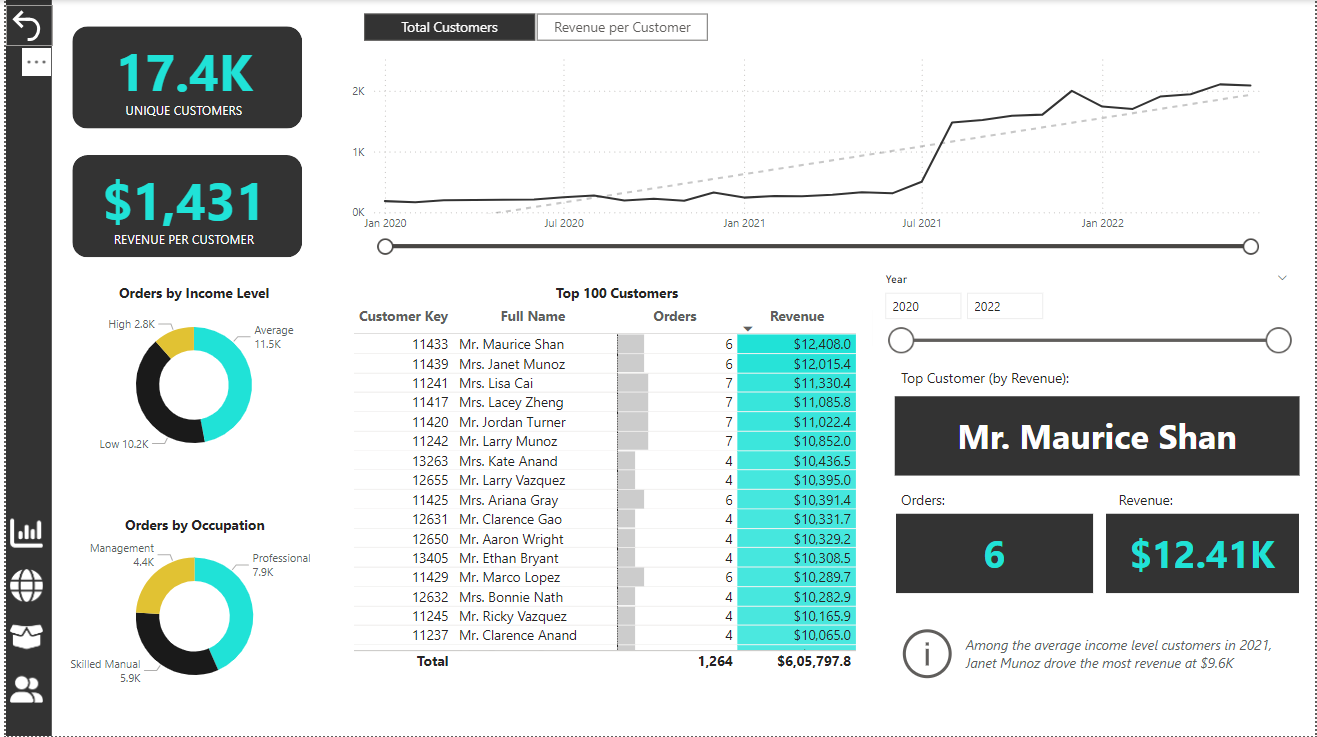

The dashboard page shown, as its layout file describes it:
{"tool":"powerbi","page":{"name":"Customer Detail","canvas":[1280,720],"ordinal":3},"visuals":[{"type":"shape","box":[0,0,45,720.2],"z":0},{"type":"shape","box":[65.3,25.7,225,100.3],"z":1000},{"type":"actionButton","box":[0.2,500.9,45.2,40.4],"z":2000,"group":"g1"},{"type":"shape","box":[64.8,151.6,225,100.3],"z":2000},{"type":"card","fields":{"Values":["Measure Table.Total Customers"]},"box":[45.2,0,258,151.6],"z":3000},{"type":"actionButton","box":[0.2,551.9,45.2,40.4],"z":4000,"group":"g1"},{"type":"card","fields":{"Values":["Measure Table.Average Revenue per Customer"]},"box":[45.2,126,258,151.6],"z":4000},{"type":"lineChart","fields":{"Y":["Measure Table.Total Customers"],"Category":["Calendar Lookup.Date Hierarchy.Start of Year","Calendar Lookup.Date Hierarchy.Start of Month","Calendar Lookup.Date Hierarchy.Start of Week","Calendar Lookup.Date Hierarchy.Date"]},"box":[333.8,45.2,909.8,206.7],"z":5000},{"type":"actionButton","box":[0.2,602.8,45.2,40.4],"z":5000,"group":"g1"},{"type":"actionButton","box":[0.2,653.8,45.2,40.4],"z":6000,"group":"g1"},{"type":"donutChart","title":"Orders by Income Level","fields":{"Category":["Customer Lookup.Income Level"],"Y":["Measure Table.Total Orders"]},"box":[64.8,277.6,238.5,181],"z":6000},{"type":"donutChart","title":"Orders by Occupation","fields":{"Y":["Measure Table.Total Orders"],"Category":["Customer Lookup.Occupation"]},"box":[57.5,503.8,254.3,181],"z":7000},{"type":"tableEx","title":"Top 100 Customers","fields":{"Values":["Customer Lookup.CustomerKey","Customer Lookup.Full Name","Measure Table.Total Orders","Measure Table.Total Revenue"]},"box":[333.8,277.5,527.5,382.5],"z":8000},{"type":"card","fields":{"Values":["Customer Lookup.Full Name (Customer Detail)"]},"box":[869.5,387.5,396.2,77.5],"z":9000},{"type":"card","fields":{"Values":["Measure Table.Total Orders (Customer Detail)"]},"box":[870.2,502.2,192.5,77.5],"z":10000},{"type":"card","fields":{"Values":["Measure Table.Total Revenue (Customer Detail)"]},"box":[1076.5,502.2,188.8,77.5],"z":11000},{"type":"textbox","box":[870.2,356,192.5,27.5],"z":12000},{"type":"textbox","box":[870.2,474.7,178.8,27.5],"z":13000},{"type":"textbox","box":[1084,474.7,175,27.5],"z":14000},{"type":"slicer","fields":{"Values":["Calendar Lookup.Year"]},"box":[847.5,261.2,418.8,95],"z":15000},{"type":"actionButton","box":[870.7,609,387.6,61.1],"z":16000},{"type":"actionButton","box":[0,4.9,45.2,40.4],"z":17000},{"type":"group","id":"g1","title":"Navigation Buttons","box":[0.2,500.9,45.2,193.2],"z":18000},{"type":"slicer","fields":{"Values":["Customer Metric Selection.Customer Metric Selection"]},"box":[324.1,6.1,386.4,40.4],"z":19501}]}

Visuals, with their boxes on the page's 1280x720 design canvas (x1, y1, x2, y2). These are canvas units, not pixel positions in the 1317x737 screenshot, which may show the page scaled, cropped or inside an application window:
shape: {"left": 0, "top": 0, "right": 45, "bottom": 720}
shape: {"left": 65, "top": 26, "right": 290, "bottom": 126}
actionButton: {"left": 0, "top": 501, "right": 45, "bottom": 541}
shape: {"left": 65, "top": 152, "right": 290, "bottom": 252}
card - Measure Table.Total Customers: {"left": 45, "top": 0, "right": 303, "bottom": 152}
actionButton: {"left": 0, "top": 552, "right": 45, "bottom": 592}
card - Measure Table.Average Revenue per Customer: {"left": 45, "top": 126, "right": 303, "bottom": 278}
lineChart - Measure Table.Total Customers x Calendar Lookup.Date Hierarchy.Start of Year: {"left": 334, "top": 45, "right": 1244, "bottom": 252}
actionButton: {"left": 0, "top": 603, "right": 45, "bottom": 643}
actionButton: {"left": 0, "top": 654, "right": 45, "bottom": 694}
"Orders by Income Level" donutChart: {"left": 65, "top": 278, "right": 303, "bottom": 459}
"Orders by Occupation" donutChart: {"left": 58, "top": 504, "right": 312, "bottom": 685}
"Top 100 Customers" tableEx: {"left": 334, "top": 278, "right": 861, "bottom": 660}
card - Customer Lookup.Full Name (Customer Detail): {"left": 870, "top": 388, "right": 1266, "bottom": 465}
card - Measure Table.Total Orders (Customer Detail): {"left": 870, "top": 502, "right": 1063, "bottom": 580}
card - Measure Table.Total Revenue (Customer Detail): {"left": 1076, "top": 502, "right": 1265, "bottom": 580}
textbox: {"left": 870, "top": 356, "right": 1063, "bottom": 384}
textbox: {"left": 870, "top": 475, "right": 1049, "bottom": 502}
textbox: {"left": 1084, "top": 475, "right": 1259, "bottom": 502}
slicer - Calendar Lookup.Year: {"left": 848, "top": 261, "right": 1266, "bottom": 356}
actionButton: {"left": 871, "top": 609, "right": 1258, "bottom": 670}
actionButton: {"left": 0, "top": 5, "right": 45, "bottom": 45}
"Navigation Buttons" group: {"left": 0, "top": 501, "right": 45, "bottom": 694}
slicer - Customer Metric Selection.Customer Metric Selection: {"left": 324, "top": 6, "right": 710, "bottom": 46}
